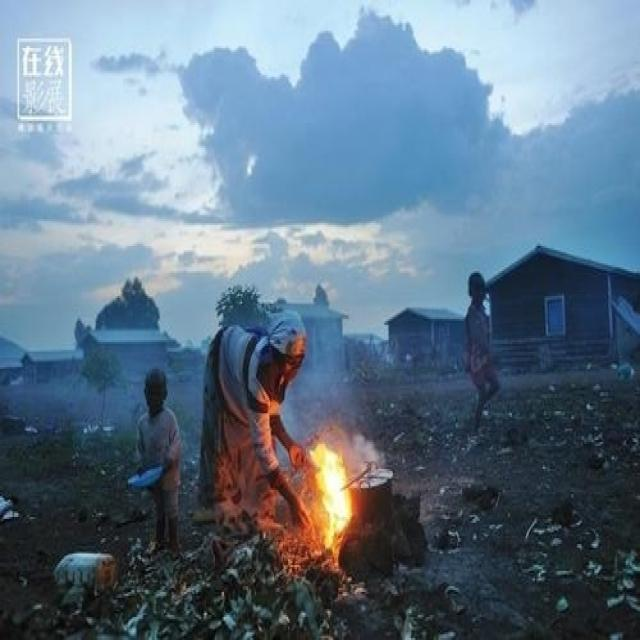Fire: (308, 442, 352, 548)
Smoke: (343, 434, 385, 482)
